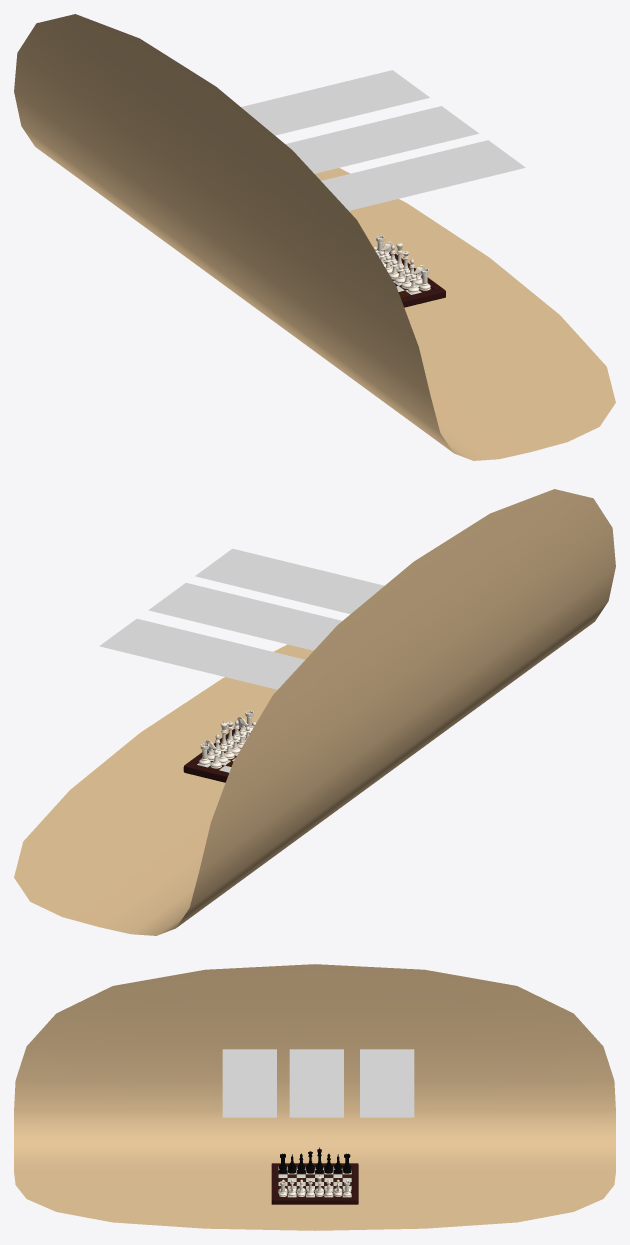
The model's file is chess.glb.
3 renders of one model, top to bottom at view 1: azimuth 30°, elevation 25°; view 2: azimuth 150°, elevation 25°; view 3: azimuth 270°, elevation 25°, orthographic. The views are drawn at different scales.
Parts seen in each view (by area): view 1: Plane.001, Plane.004, Plane.002, Plane.003, Board base; view 2: Plane.001, Plane.003, Plane.002, Plane.004, Board base; view 3: Plane.001, Plane.004, Plane.003, Plane.002, Board base, Board.
Boxes of the visible parts, x1=… form: Plane.001: x1=14, y1=14, x2=615, y2=460; Plane.004: x1=321, y1=140, x2=525, y2=210; Plane.002: x1=285, y1=106, x2=478, y2=173; Plane.003: x1=241, y1=70, x2=429, y2=135; Board base: x1=377, y1=249, x2=445, y2=307; Plane.001: x1=14, y1=489, x2=615, y2=935; Plane.003: x1=99, y1=618, x2=304, y2=689; Plane.002: x1=148, y1=583, x2=341, y2=650; Plane.004: x1=195, y1=548, x2=384, y2=614; Board base: x1=183, y1=722, x2=252, y2=782; Plane.001: x1=14, y1=964, x2=615, y2=1230; Plane.004: x1=222, y1=1049, x2=276, y2=1117; Plane.003: x1=360, y1=1049, x2=414, y2=1117; Plane.002: x1=289, y1=1049, x2=343, y2=1117; Board base: x1=271, y1=1163, x2=358, y2=1204; Board: x1=278, y1=1166, x2=351, y2=1197.
Bounding box in the file's own units: 36.32 × 30.17 × 96.38.
